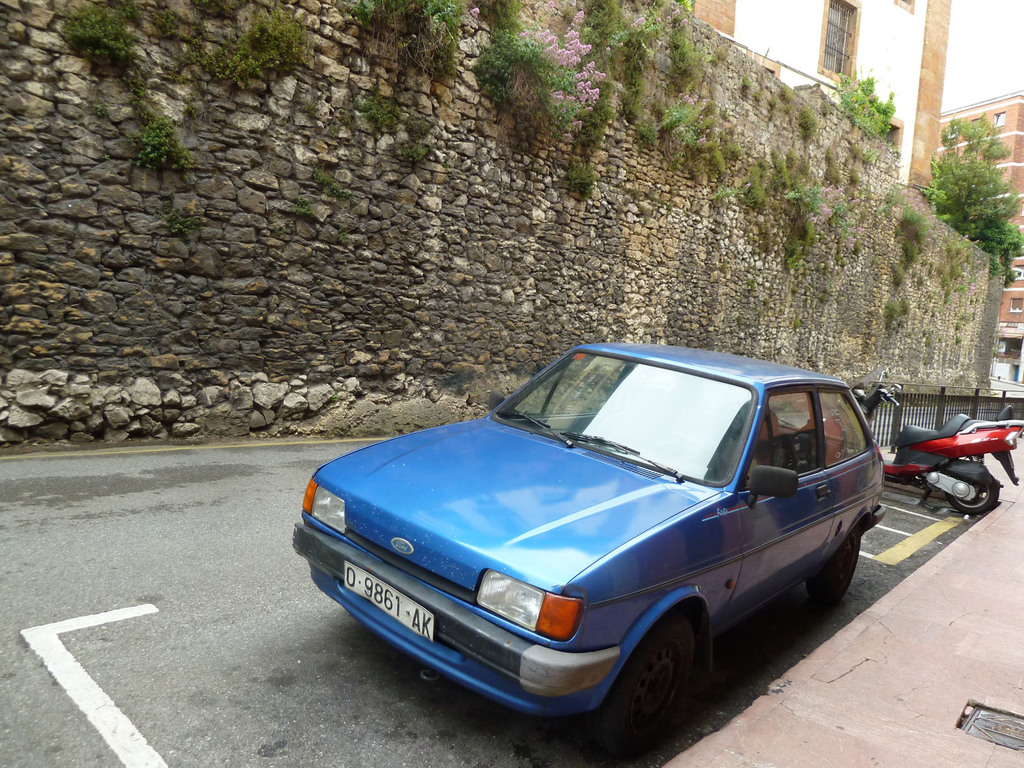Car: (291, 341, 888, 761)
